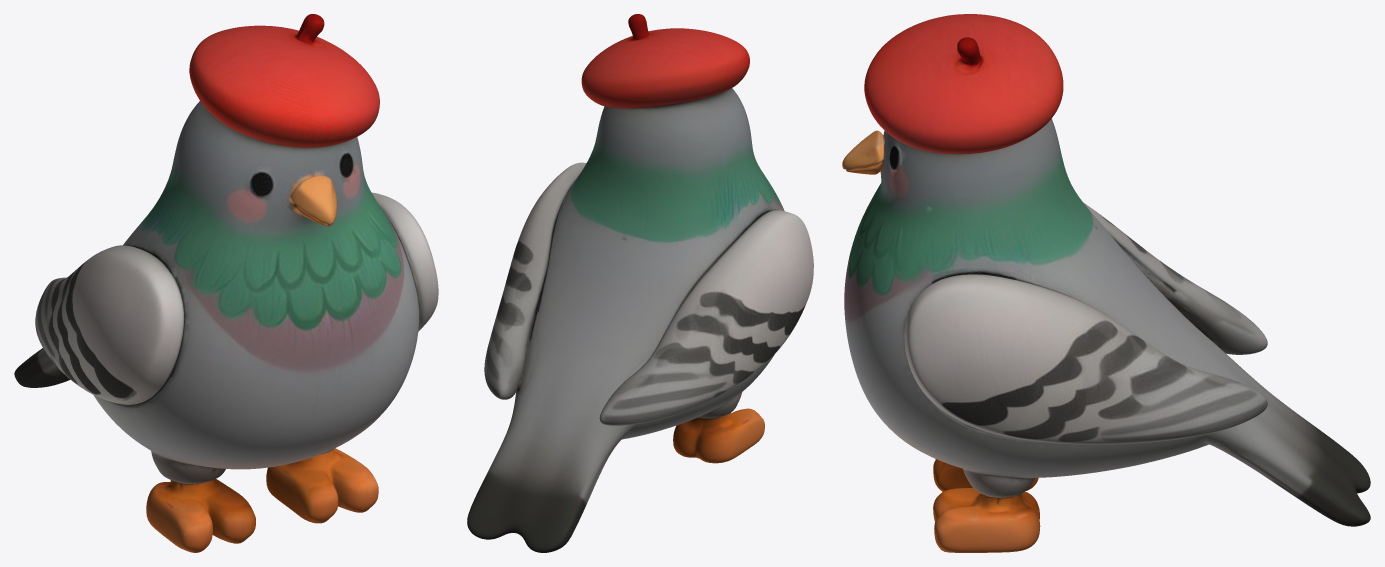
The model's file is pigeon.glb.
3 views of the same model, side by side, from view 1: azimuth 30°, elevation 25°; view 2: azimuth 150°, elevation 25°; view 3: azimuth 270°, elevation 25° (orthographic). The views are drawn at different scales.
Parts seen in each view (by area): view 1: node_0; view 2: node_0; view 3: node_0.
Part boxes in pixels (x1,y1,x2,y2): node_0: [14, 14, 438, 552]; node_0: [467, 14, 813, 552]; node_0: [842, 14, 1370, 552].
Size of the model in its own units: 0.5795 by 0.874 by 0.8466.
Materials: 1 (1 with a texture image).
